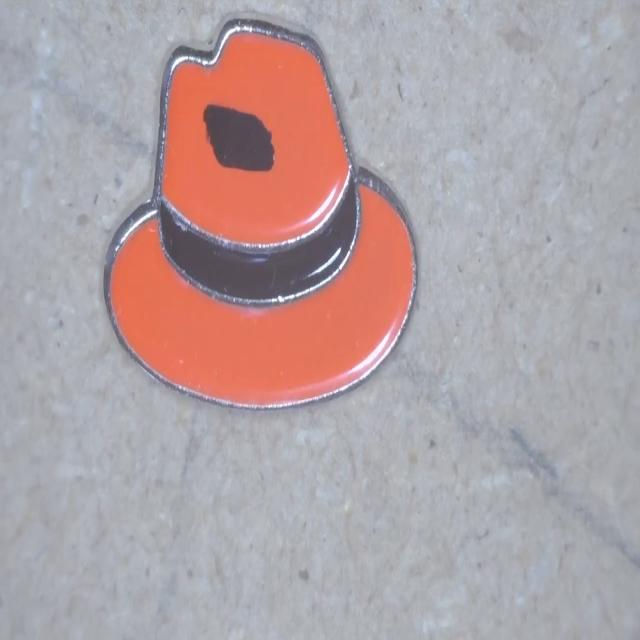Hatband: (164, 180, 364, 309)
Paint_Leak: (208, 107, 278, 173)
RedHatPin: (108, 22, 420, 411)
